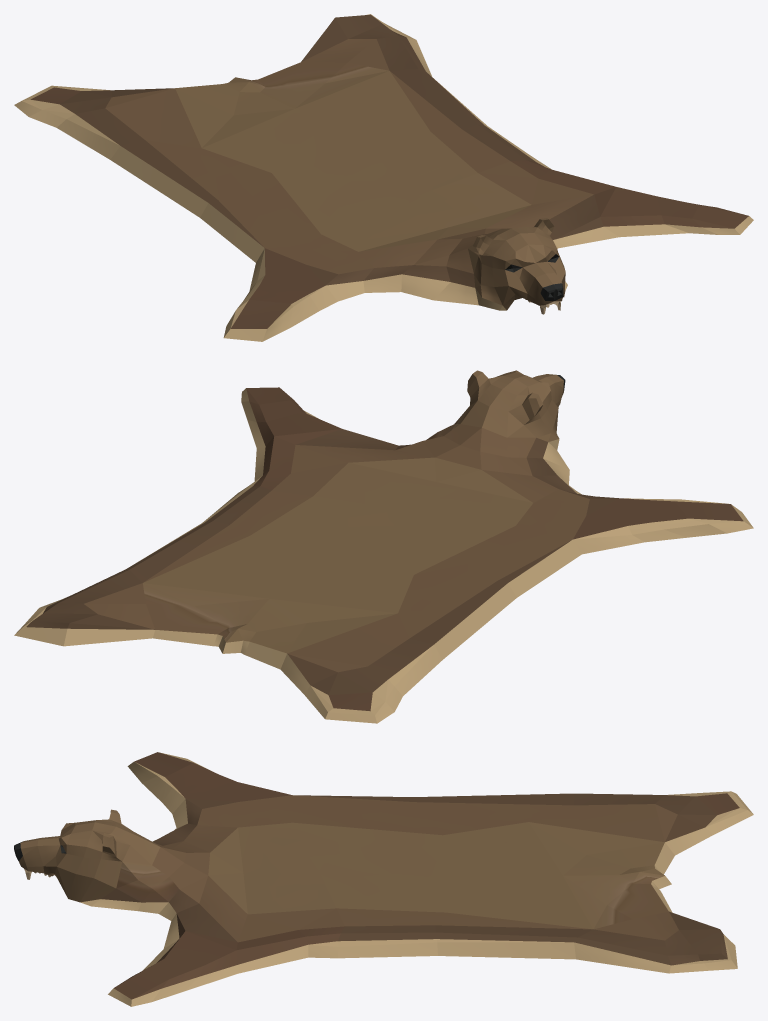
Rendered from bear_rug.glb.
3 views of the same model, one above another, from view 1: azimuth 30°, elevation 25°; view 2: azimuth 150°, elevation 25°; view 3: azimuth 270°, elevation 25° (orthographic).
Visible parts, largest first — view 1: SM_Prop_BearRug_01; view 2: SM_Prop_BearRug_01; view 3: SM_Prop_BearRug_01.
Boxes of the visible parts, <box> form: SM_Prop_BearRug_01: <box>14,14,753,341</box>; SM_Prop_BearRug_01: <box>14,370,753,723</box>; SM_Prop_BearRug_01: <box>14,752,753,1006</box>.
Size of the model in its own units: 2.29 by 0.2722 by 2.83.
Materials: 1 (1 with a texture image).
